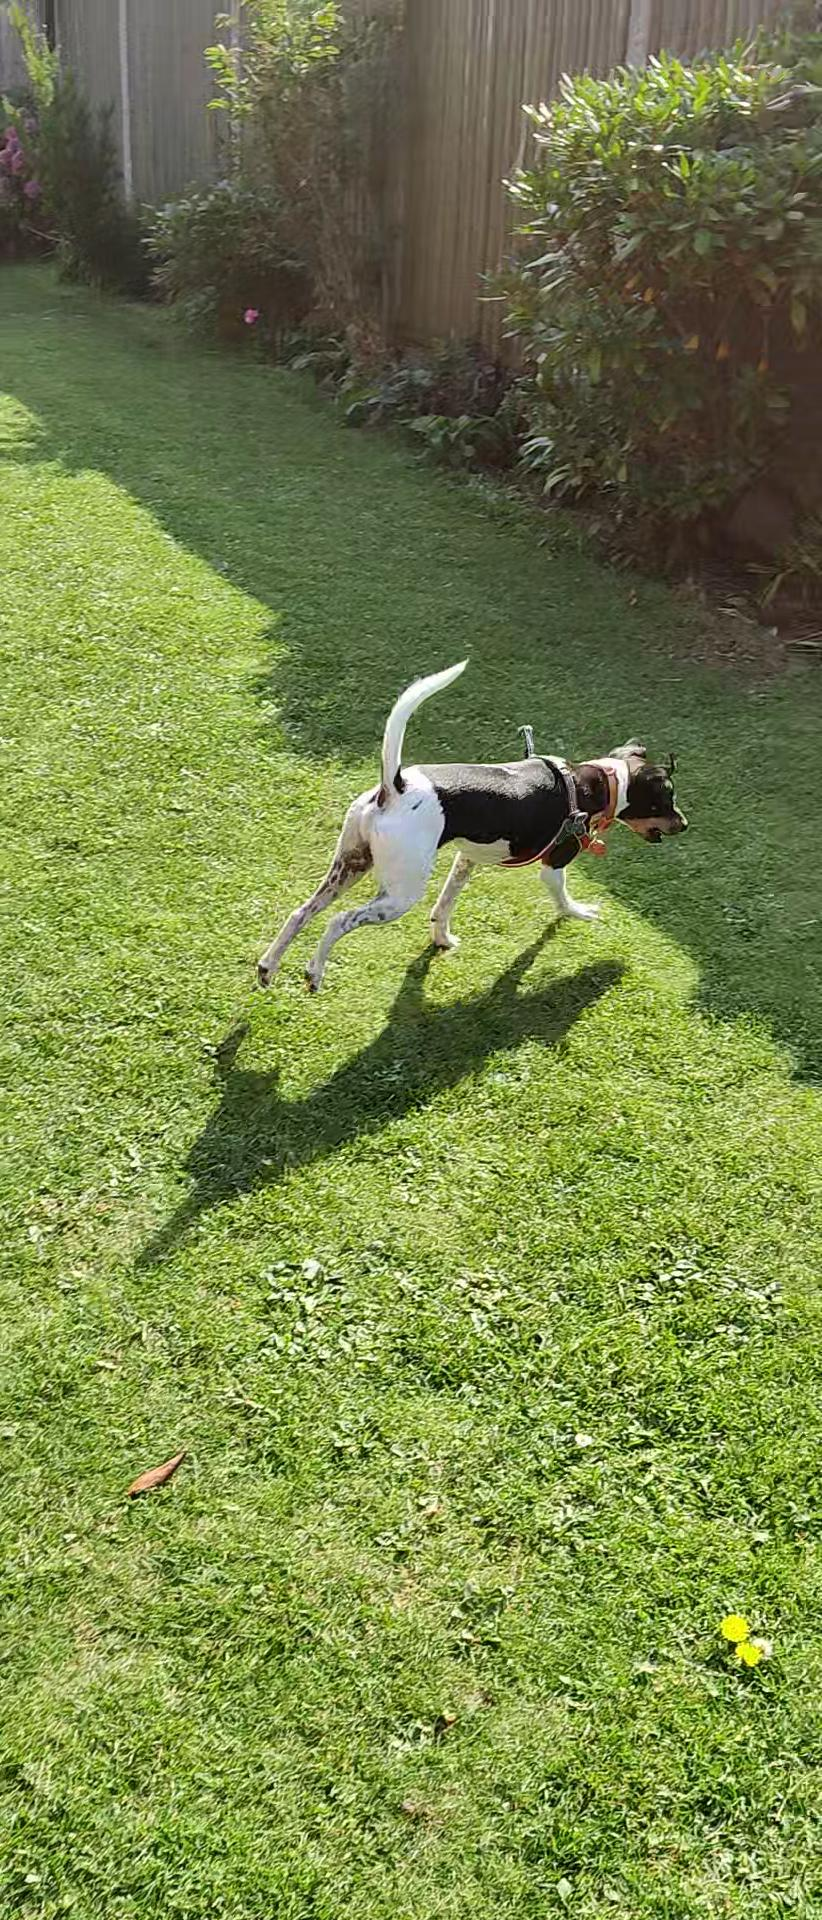Dog: (243, 648, 698, 1010)
